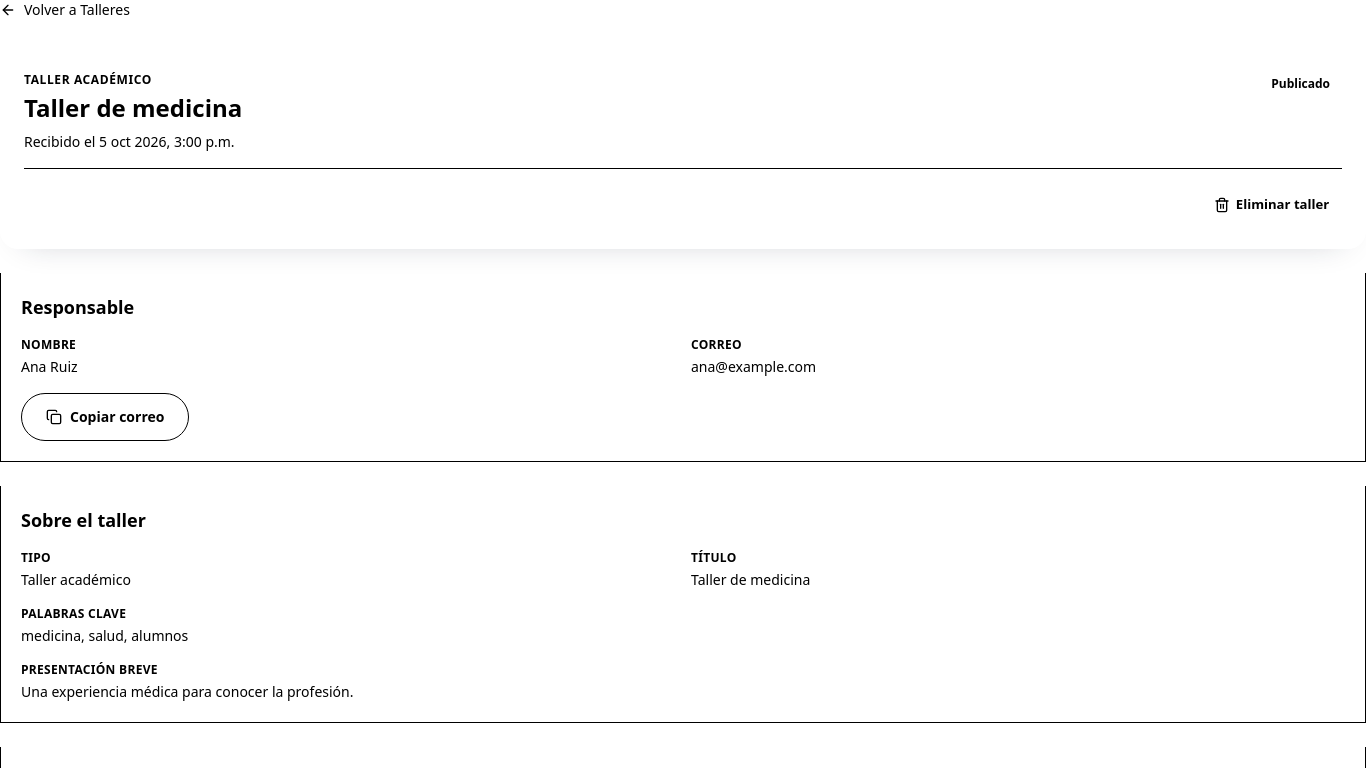
Test: cancelling or a server error deletes nothing and keeps the workshop on screen
Step 1. Click the button "Eliminar taller" → (1272, 205), box [1201,185,1342,225]
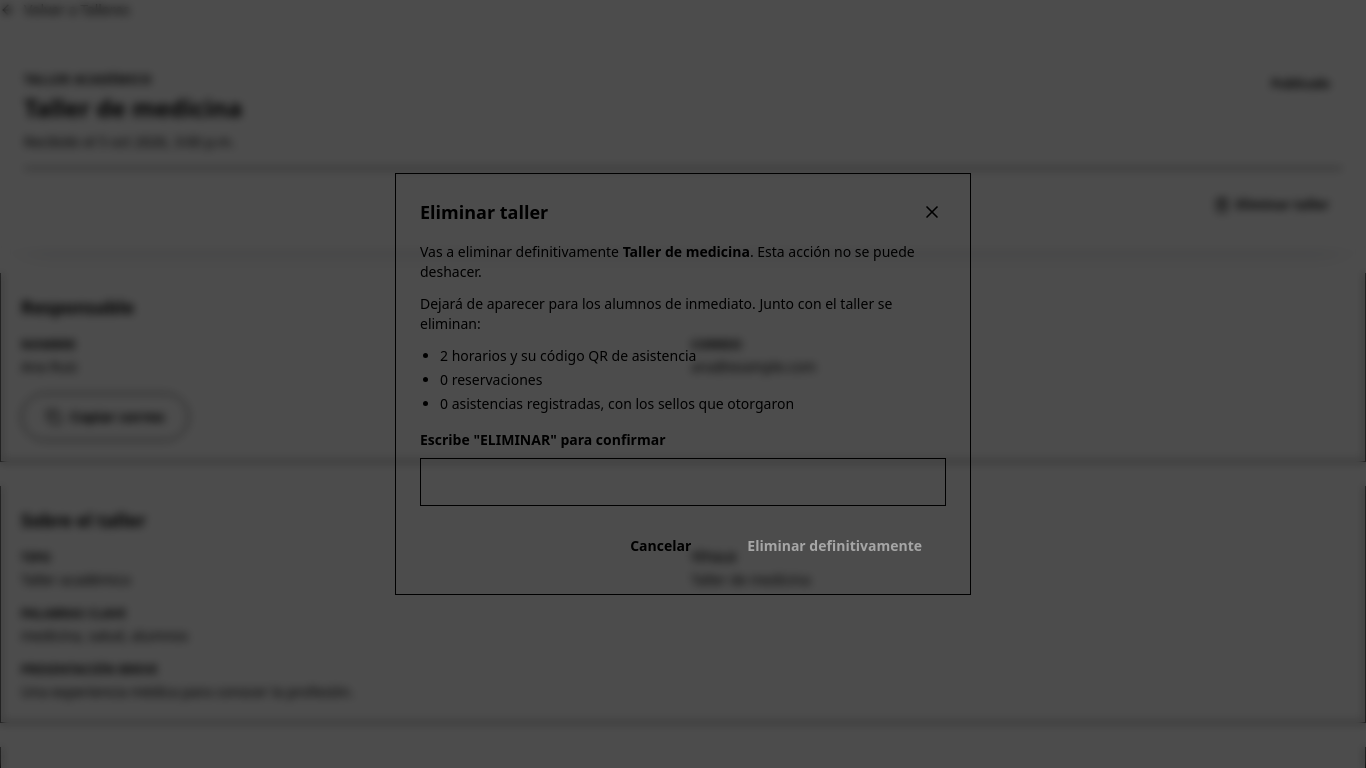
Step 2. Click the button "Cancelar" → (661, 546), box [606,522,715,570]
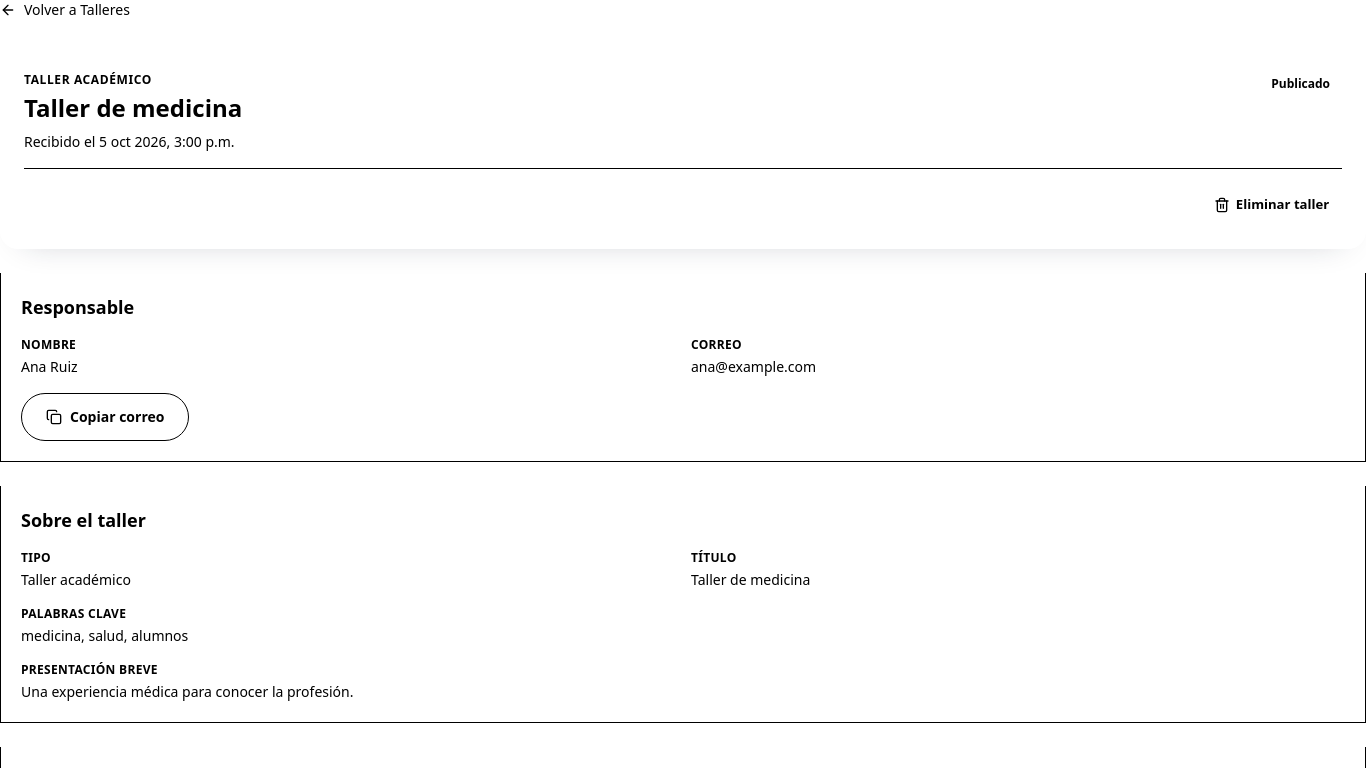
Check: the dialog is gone
Step 3. Click the button "Eliminar taller" → (1272, 205), box [1201,185,1342,225]
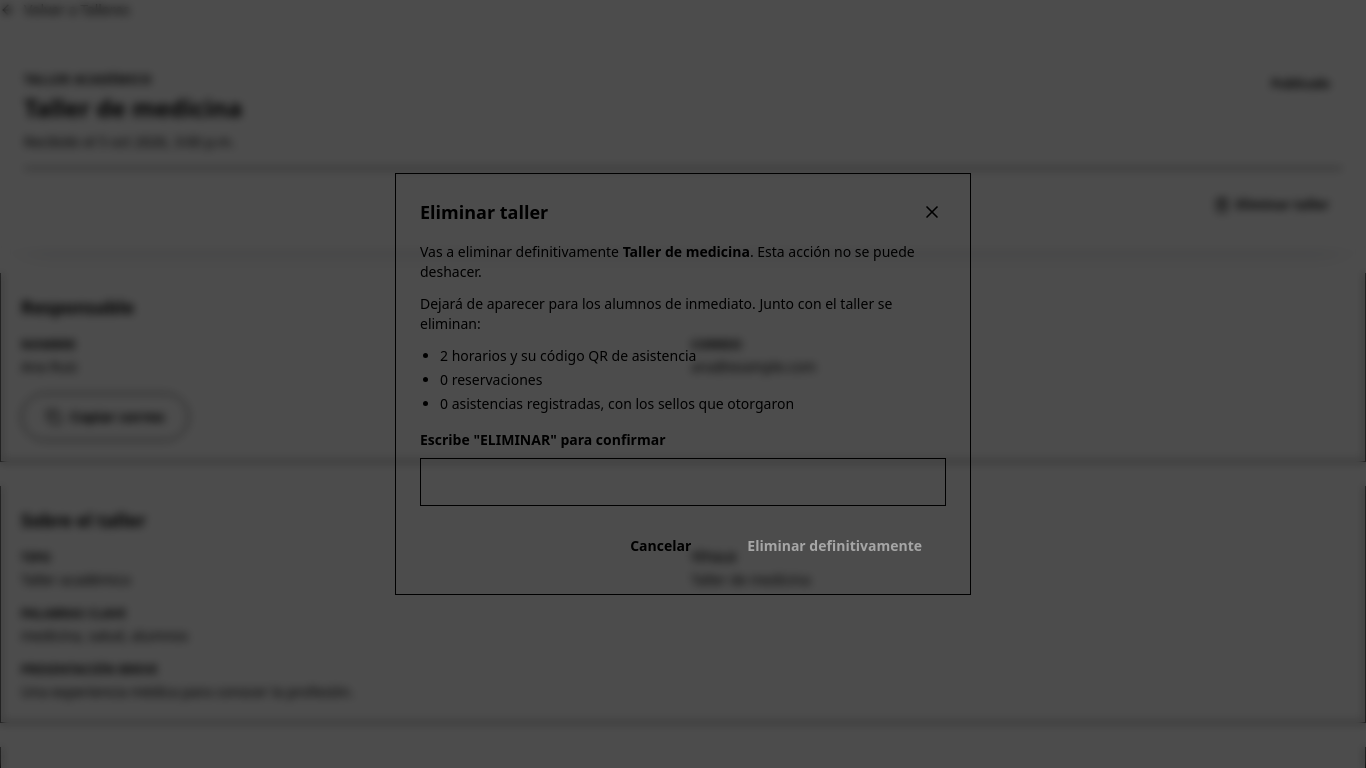
Step 4. Type "ELIMINAR" into the field labelled "Escribe \"ELIMINAR\" para confirmar" → (683, 482), box [420,458,946,506]
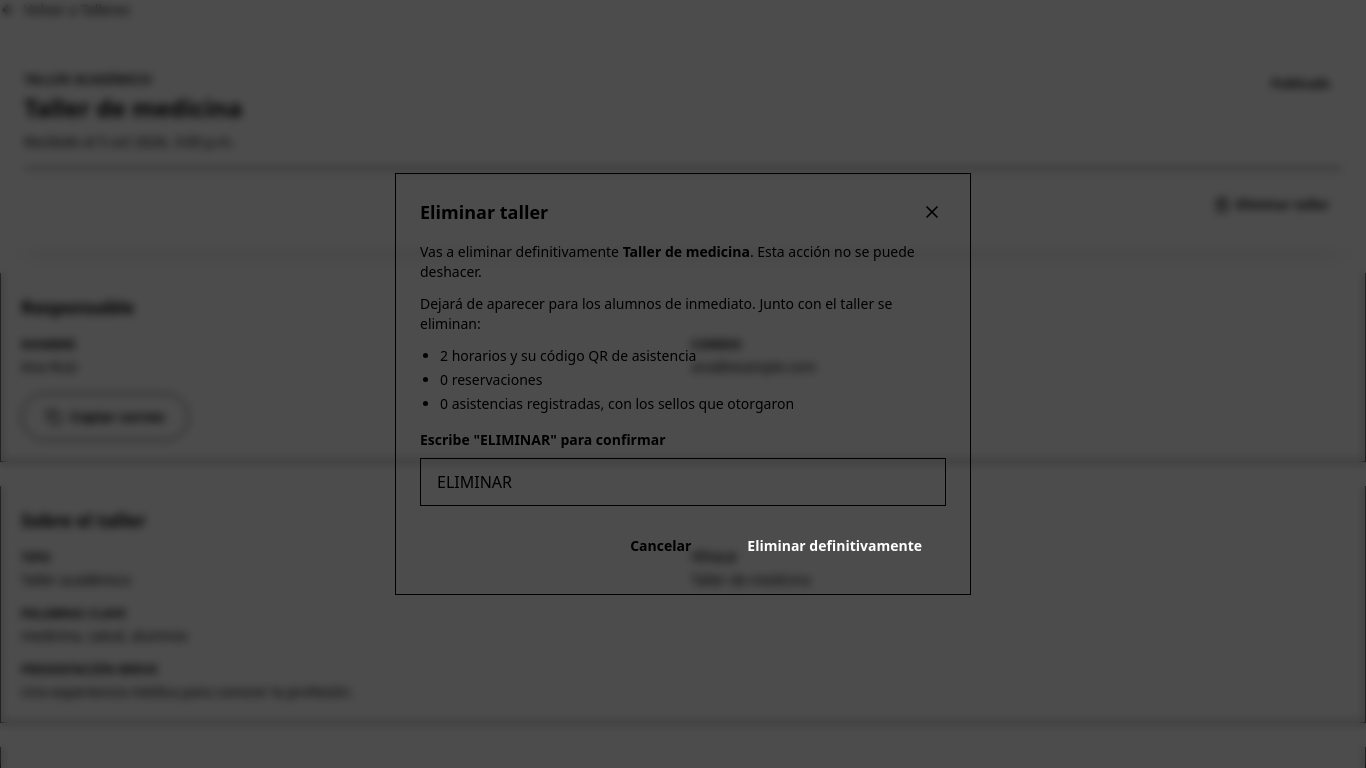
Step 5. Click the button "Eliminar definitivamente" → (835, 546), box [723,522,946,570]
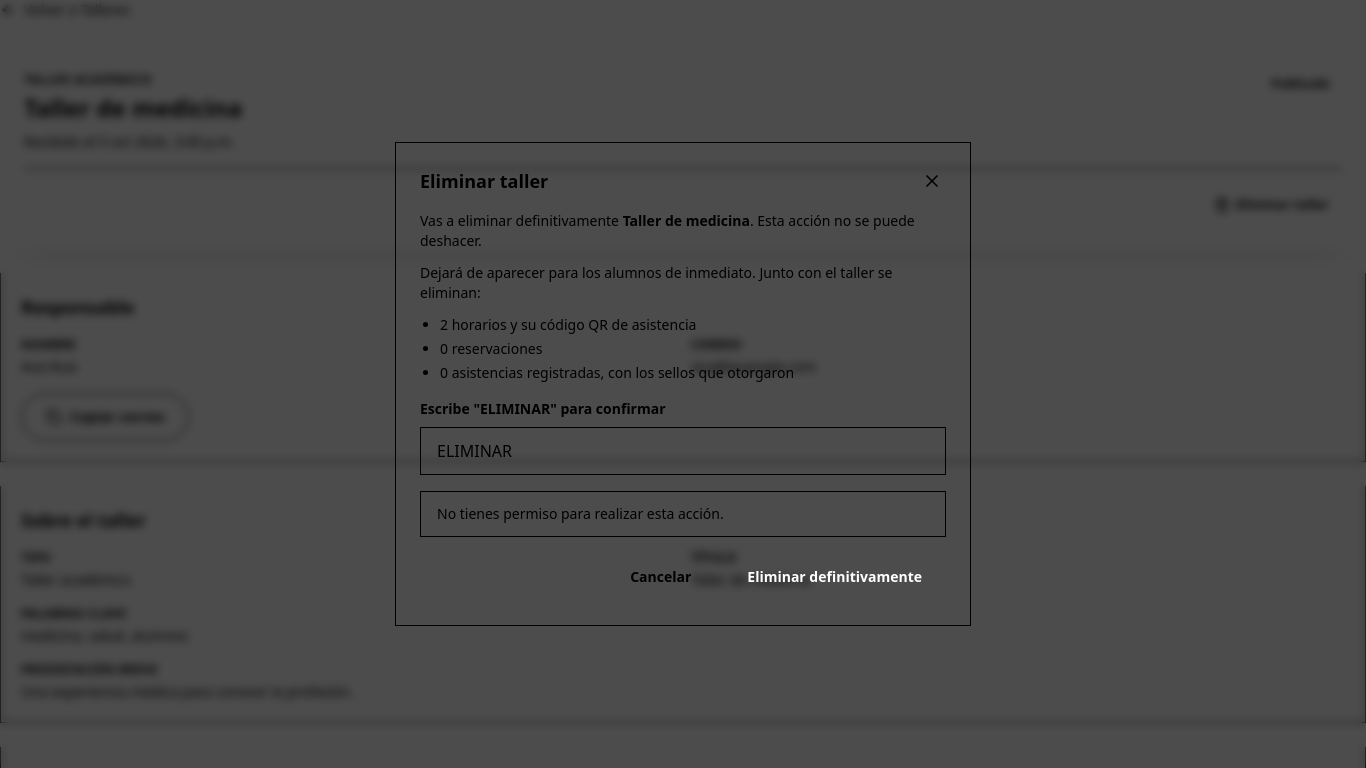
Check: the heading "Taller de medicina" is shown, box [24,92,242,124]
Check: the message "No tienes permiso para realizar esta acción." is shown, box [420,491,946,537]
